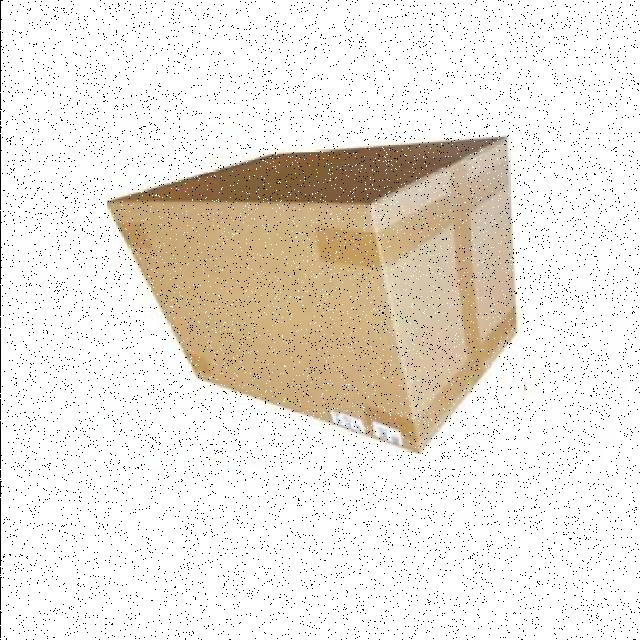normal: (106, 134, 523, 457)
